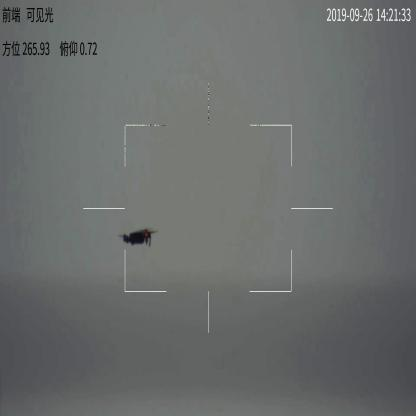uav: (117, 226, 159, 248)
